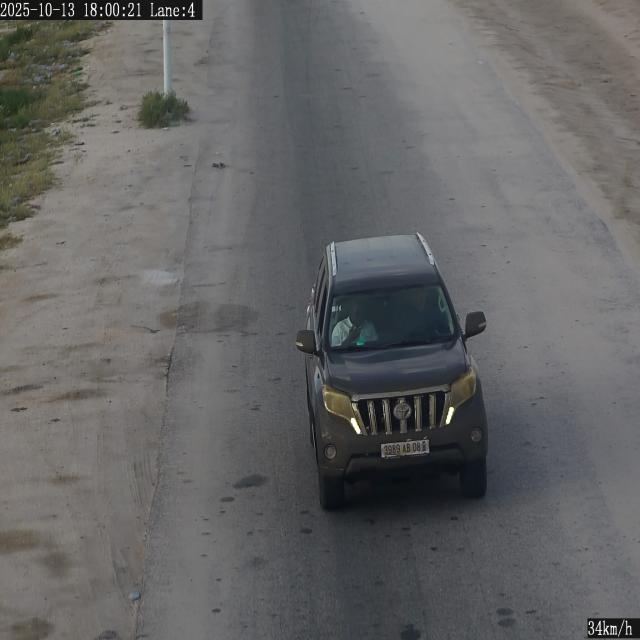BUS: (381, 440, 429, 457)
